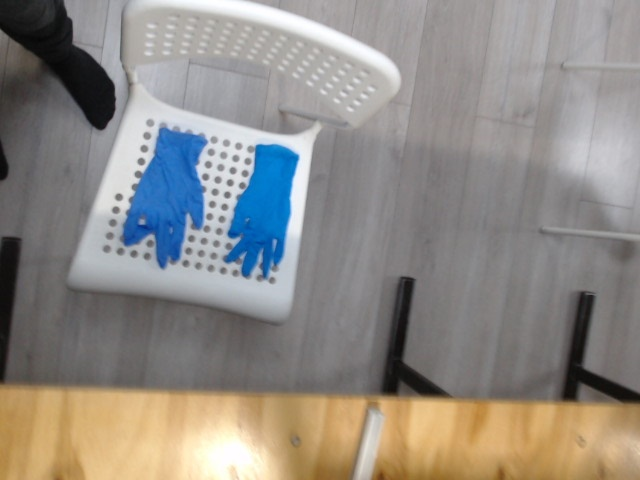medical_glove: (124, 129, 208, 266), (228, 145, 298, 279)
